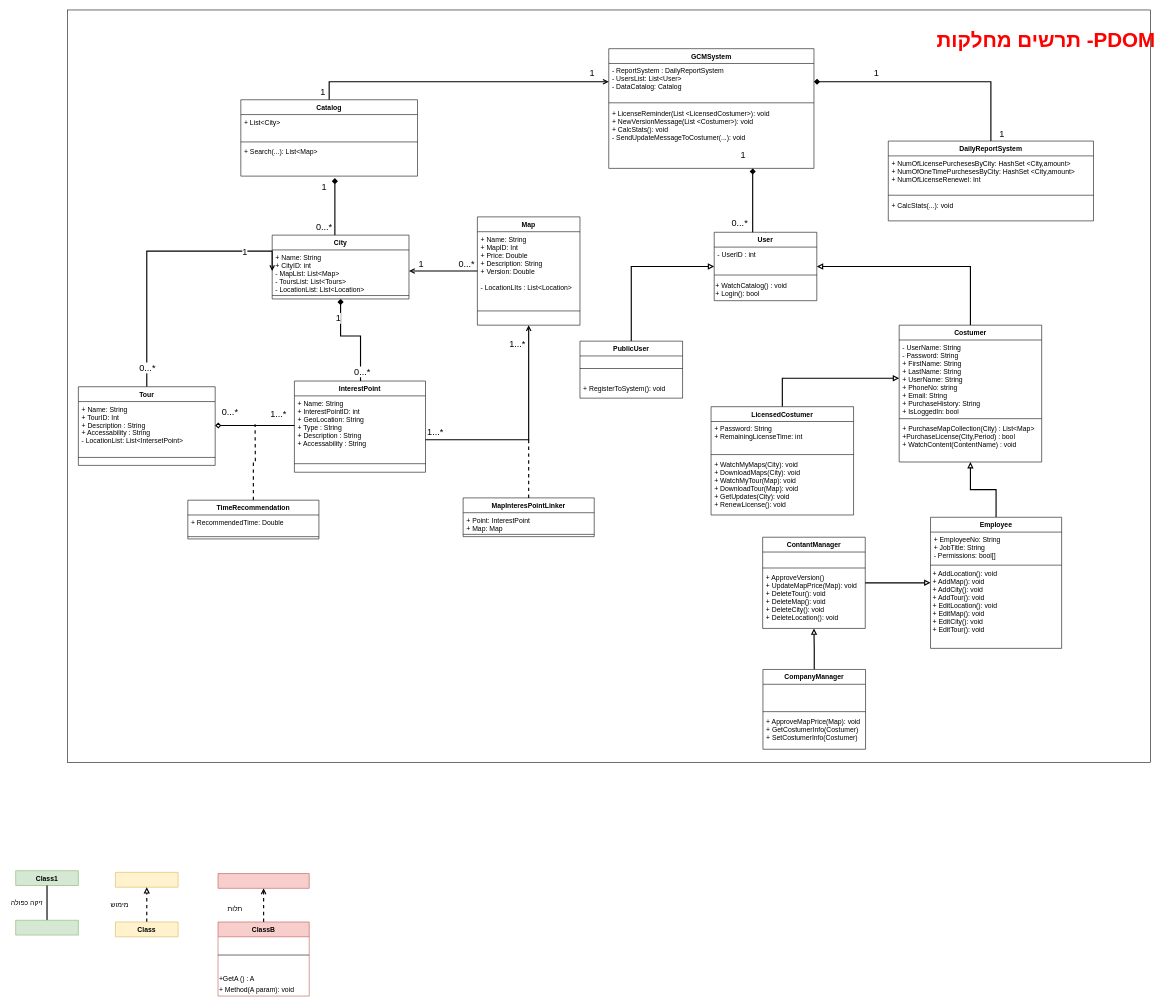
This 1165x1006 diagram has some shape labels left out. Here are the shapes that lost their labels. From the top down, the centre of each, then its label:
At point (146, 879): "Interface".
At point (263, 880): "ClassA".
At point (46, 927): "Class2".
